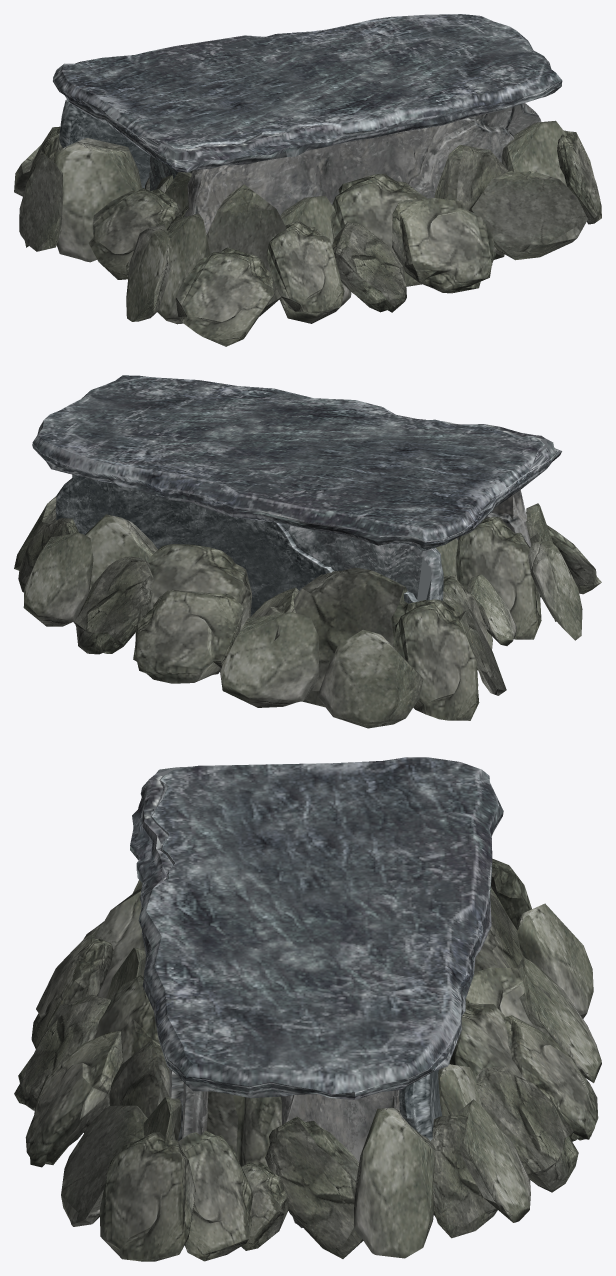
The model's file is GLB_Trikuharri_Itxia_Escalado.glb.
3 views of the same model, one above another, from view 1: azimuth 30°, elevation 25°; view 2: azimuth 150°, elevation 25°; view 3: azimuth 270°, elevation 25° (orthographic). The views are drawn at different scales.
Parts seen in each view (by area): view 1: Trikuharri_Itxita; view 2: Trikuharri_Itxita; view 3: Trikuharri_Itxita.
Part boxes in pixels (x1=…): Trikuharri_Itxita: x1=14, y1=14, x2=601, y2=346; Trikuharri_Itxita: x1=14, y1=375, x2=601, y2=728; Trikuharri_Itxita: x1=14, y1=757, x2=601, y2=1261.
Bounding box in the file's own units: 1.8 × 0.6779 × 1.39.
Materials: 1 (1 with a texture image).
